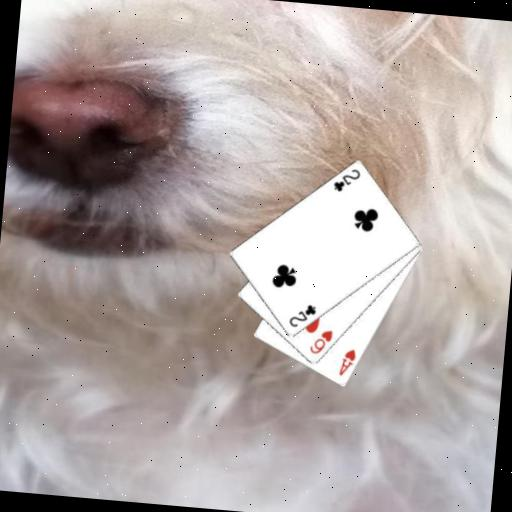2C: (286, 300, 319, 331), (330, 164, 363, 195)
6H: (306, 326, 335, 357)
AH: (335, 346, 358, 380)
